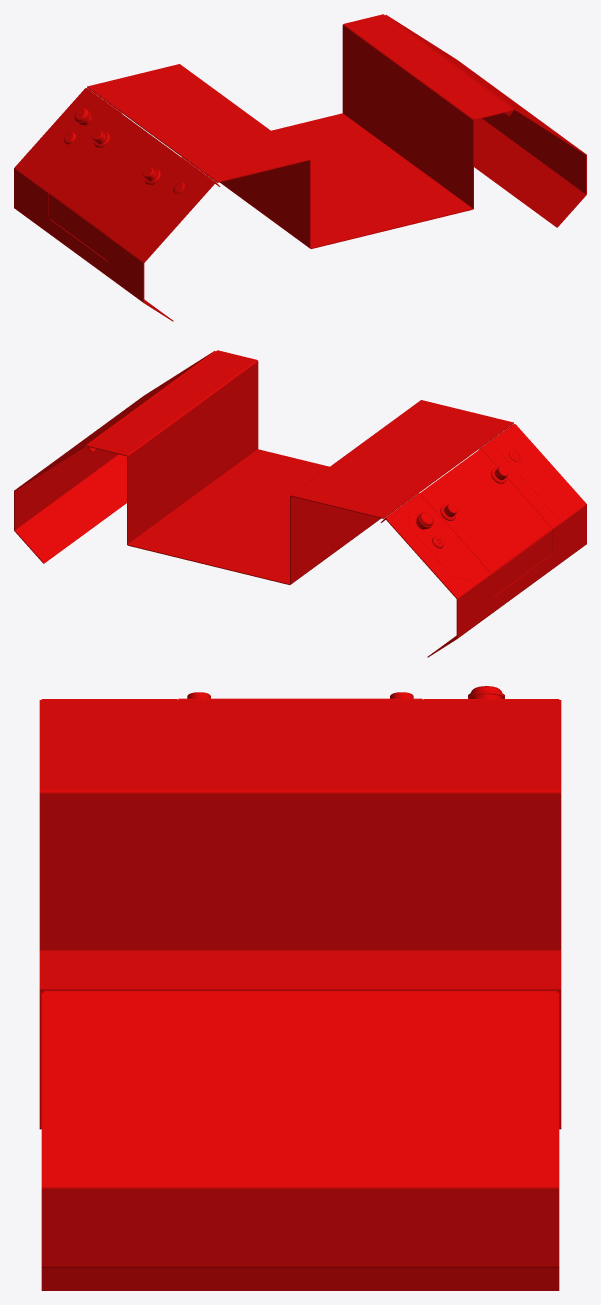
File: top_chassis_source.dae
3 views of the same model, one above another, from view 1: azimuth 30°, elevation 25°; view 2: azimuth 150°, elevation 25°; view 3: azimuth 270°, elevation 25° (orthographic). The views are drawn at different scales.
Visible parts, largest first — view 1: Top_Chassis; view 2: Top_Chassis; view 3: Top_Chassis.
Part boxes in pixels (left/top/right/bottom): Top_Chassis: left=14, top=14, right=586, bottom=321; Top_Chassis: left=14, top=350, right=586, bottom=657; Top_Chassis: left=39, top=686, right=561, bottom=1290.
Bounding box in the file's own units: 0.812 × 0.4137 × 0.2264.
